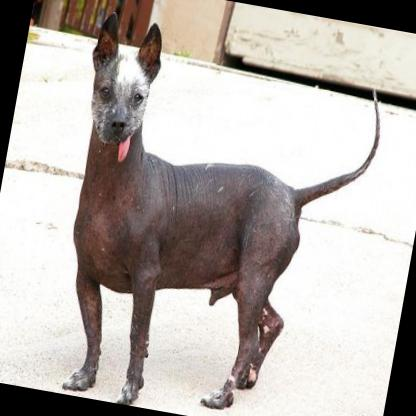Mexican_hairless: (32, 9, 392, 416)
